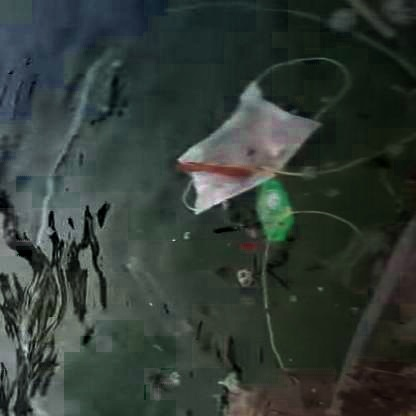Mask: (163, 58, 352, 214)
